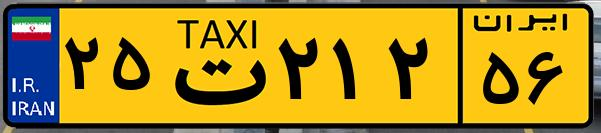1: (330, 28, 385, 110)
2: (270, 28, 330, 110), (385, 28, 445, 110), (57, 26, 110, 100)
5: (475, 38, 525, 113), (110, 28, 158, 98)
6: (525, 38, 570, 115)
ت: (158, 12, 270, 120)
